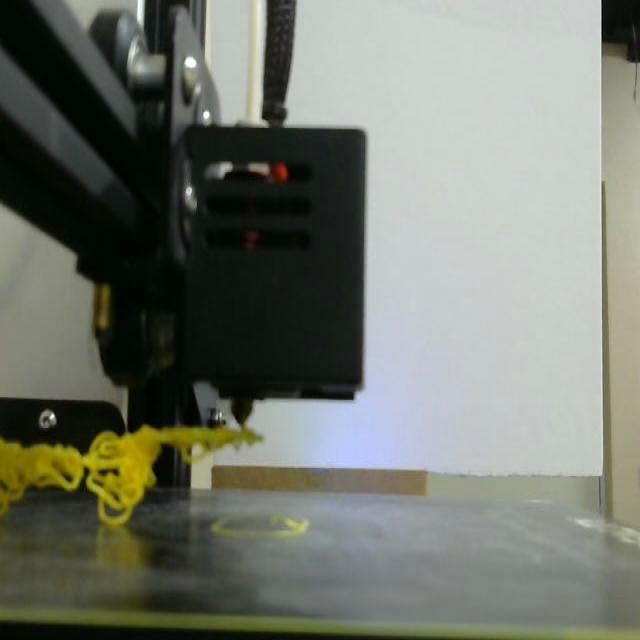spaghetti: (0, 425, 261, 525)
